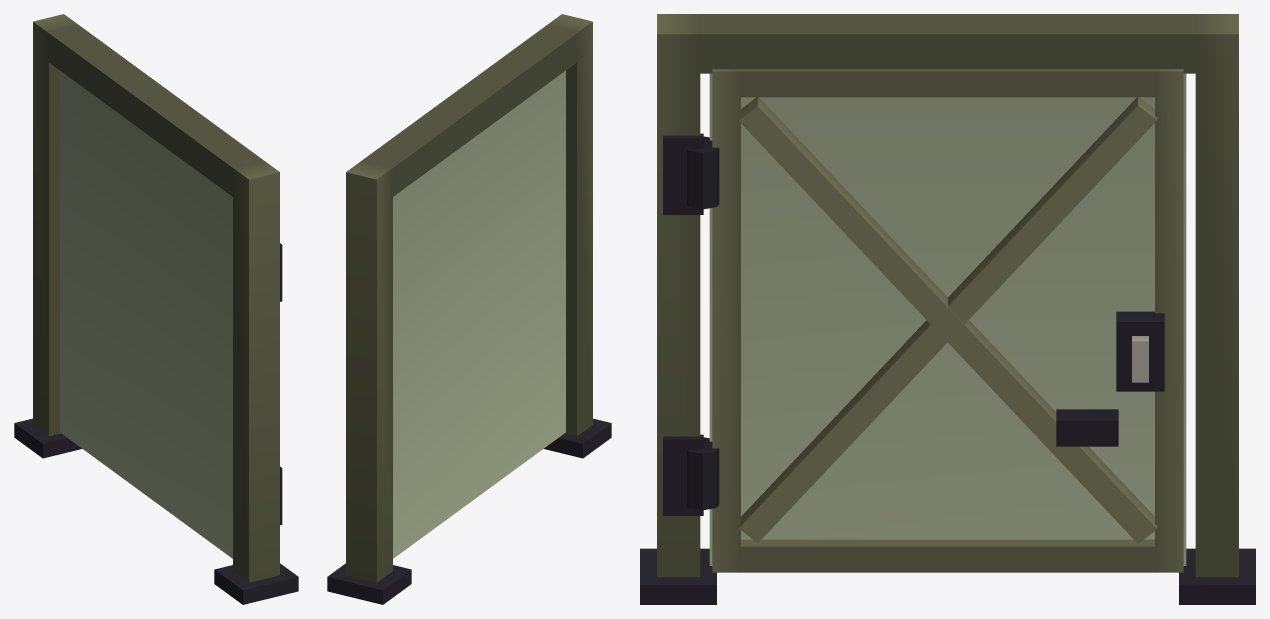
Rendered from prop.service-gate.lod1.glb.
The picture shows the model from 3 angles, left to right: view 1: azimuth 30°, elevation 25°; view 2: azimuth 150°, elevation 25°; view 3: azimuth 270°, elevation 25°; orthographic projection. The views are drawn at different scales.
Parts seen in each view (by area): view 1: gate, body; view 2: gate, body; view 3: gate, body.
Boxes of the visible parts, x1,y1,x2,y2 form: gate: (60, 71, 232, 558); body: (14, 14, 298, 604); gate: (393, 71, 565, 558); body: (327, 14, 611, 604); gate: (687, 69, 1186, 572); body: (640, 14, 1255, 604).
Bounding box in the file's own units: 0.435 × 2.58 × 2.56.
